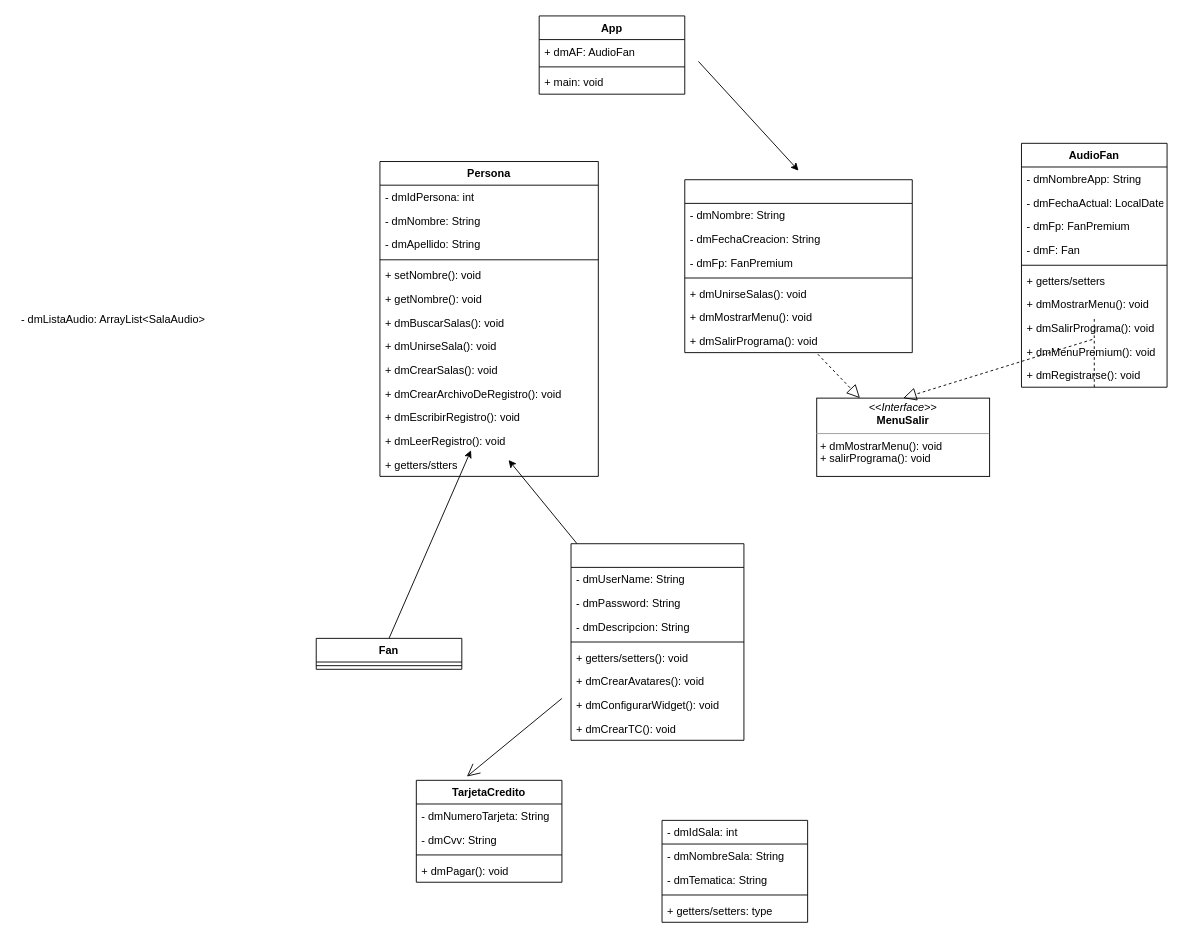
Some shapes in this 1183 by 941 pixel diagram are drawn without their labels. Each missing label, with the box of its shape:
FanPremium: (570, 543, 744, 740)
SalaAudio: (661, 819, 808, 922)
Widget: (684, 179, 912, 353)
